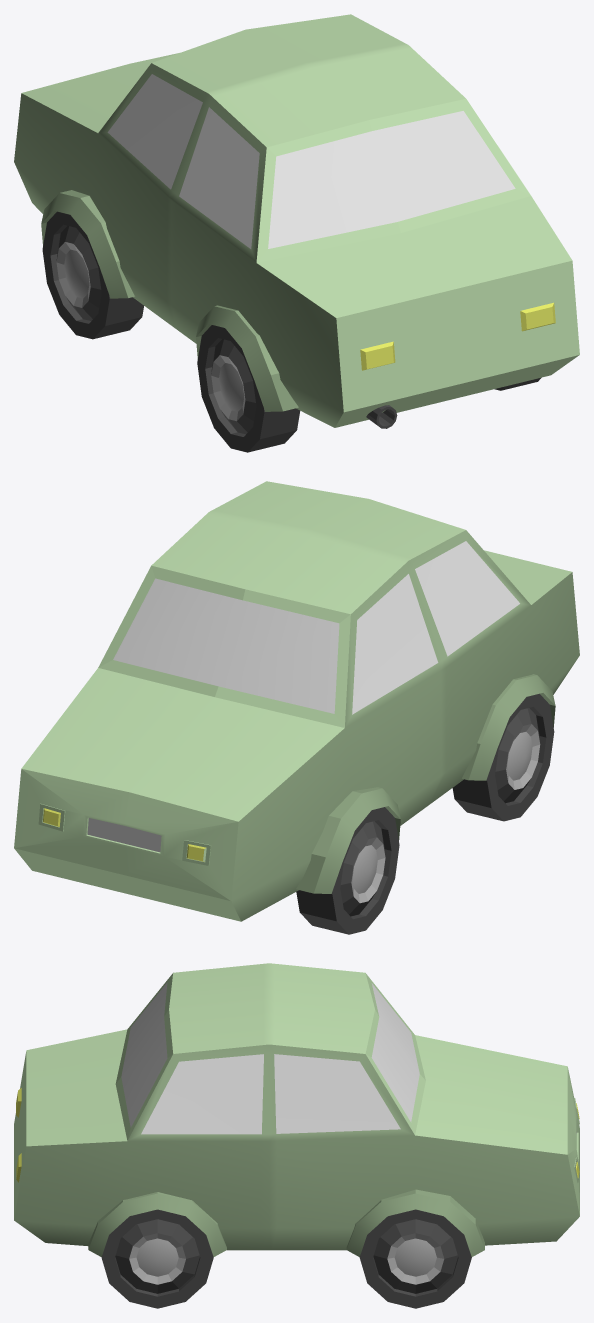
Rendered from Car_Green.fbx.
3 views of the same model, one above another, from view 1: azimuth 30°, elevation 25°; view 2: azimuth 150°, elevation 25°; view 3: azimuth 270°, elevation 25° (orthographic). The views are drawn at different scales.
Parts seen in each view (by area): view 1: polySurface21; view 2: polySurface21; view 3: polySurface21.
Boxes of the visible parts, x1=… form: polySurface21: x1=14, y1=14, x2=579, y2=452; polySurface21: x1=14, y1=481, x2=579, y2=934; polySurface21: x1=14, y1=963, x2=579, y2=1308.
Size of the model in its own units: 1.51 by 1.43 by 2.94.
